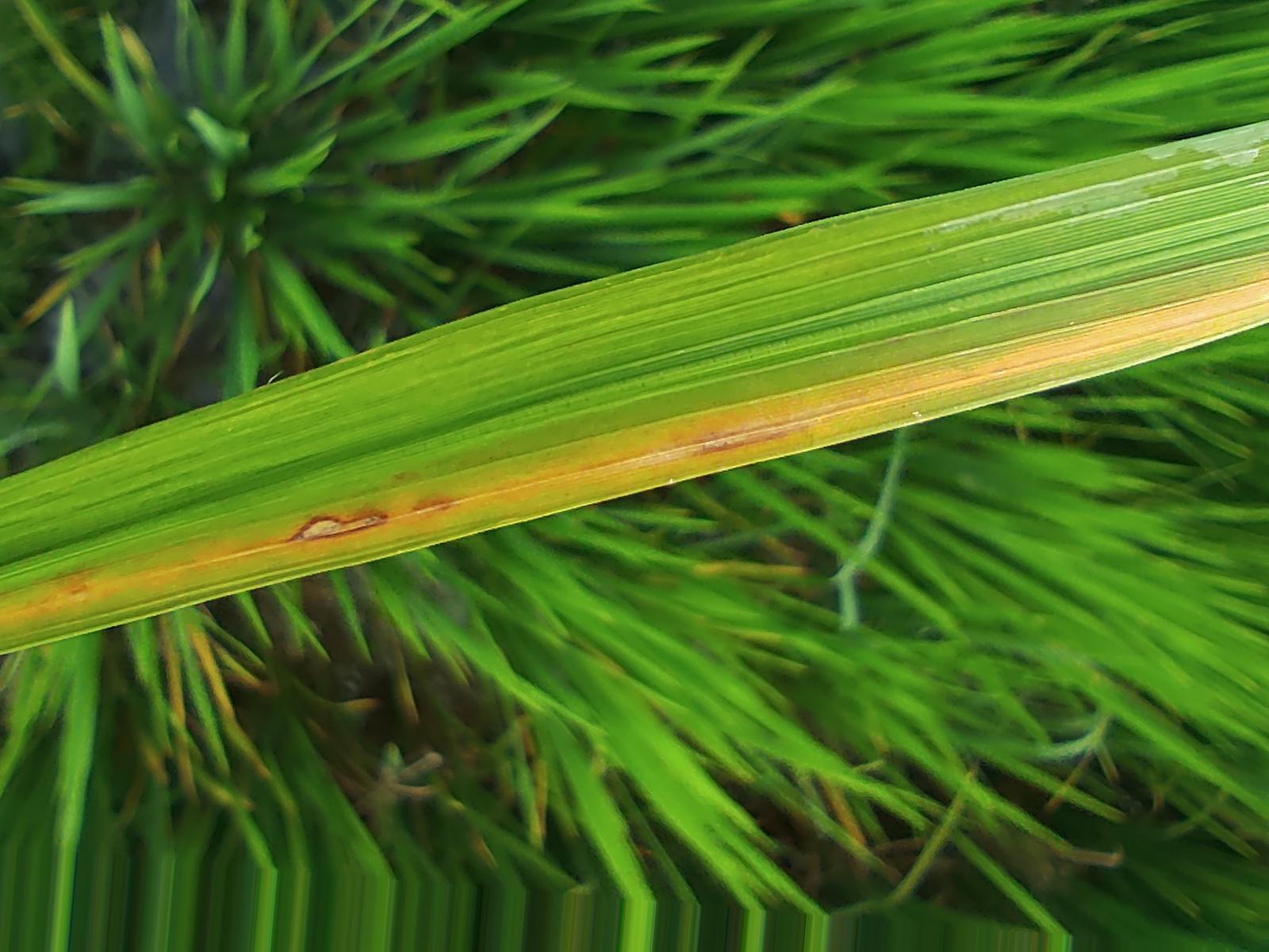LEAF: (0, 123, 1268, 654)
NBS: (610, 423, 812, 475), (286, 510, 396, 547), (410, 497, 462, 517), (64, 584, 88, 598)
